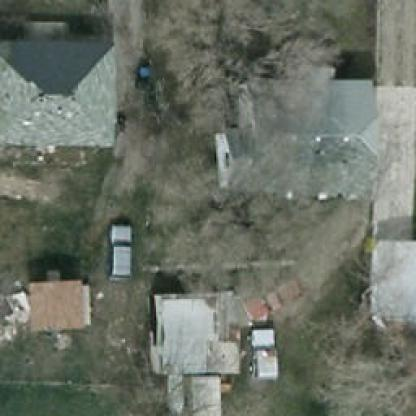car: (102, 222, 132, 282), (247, 330, 281, 380)
